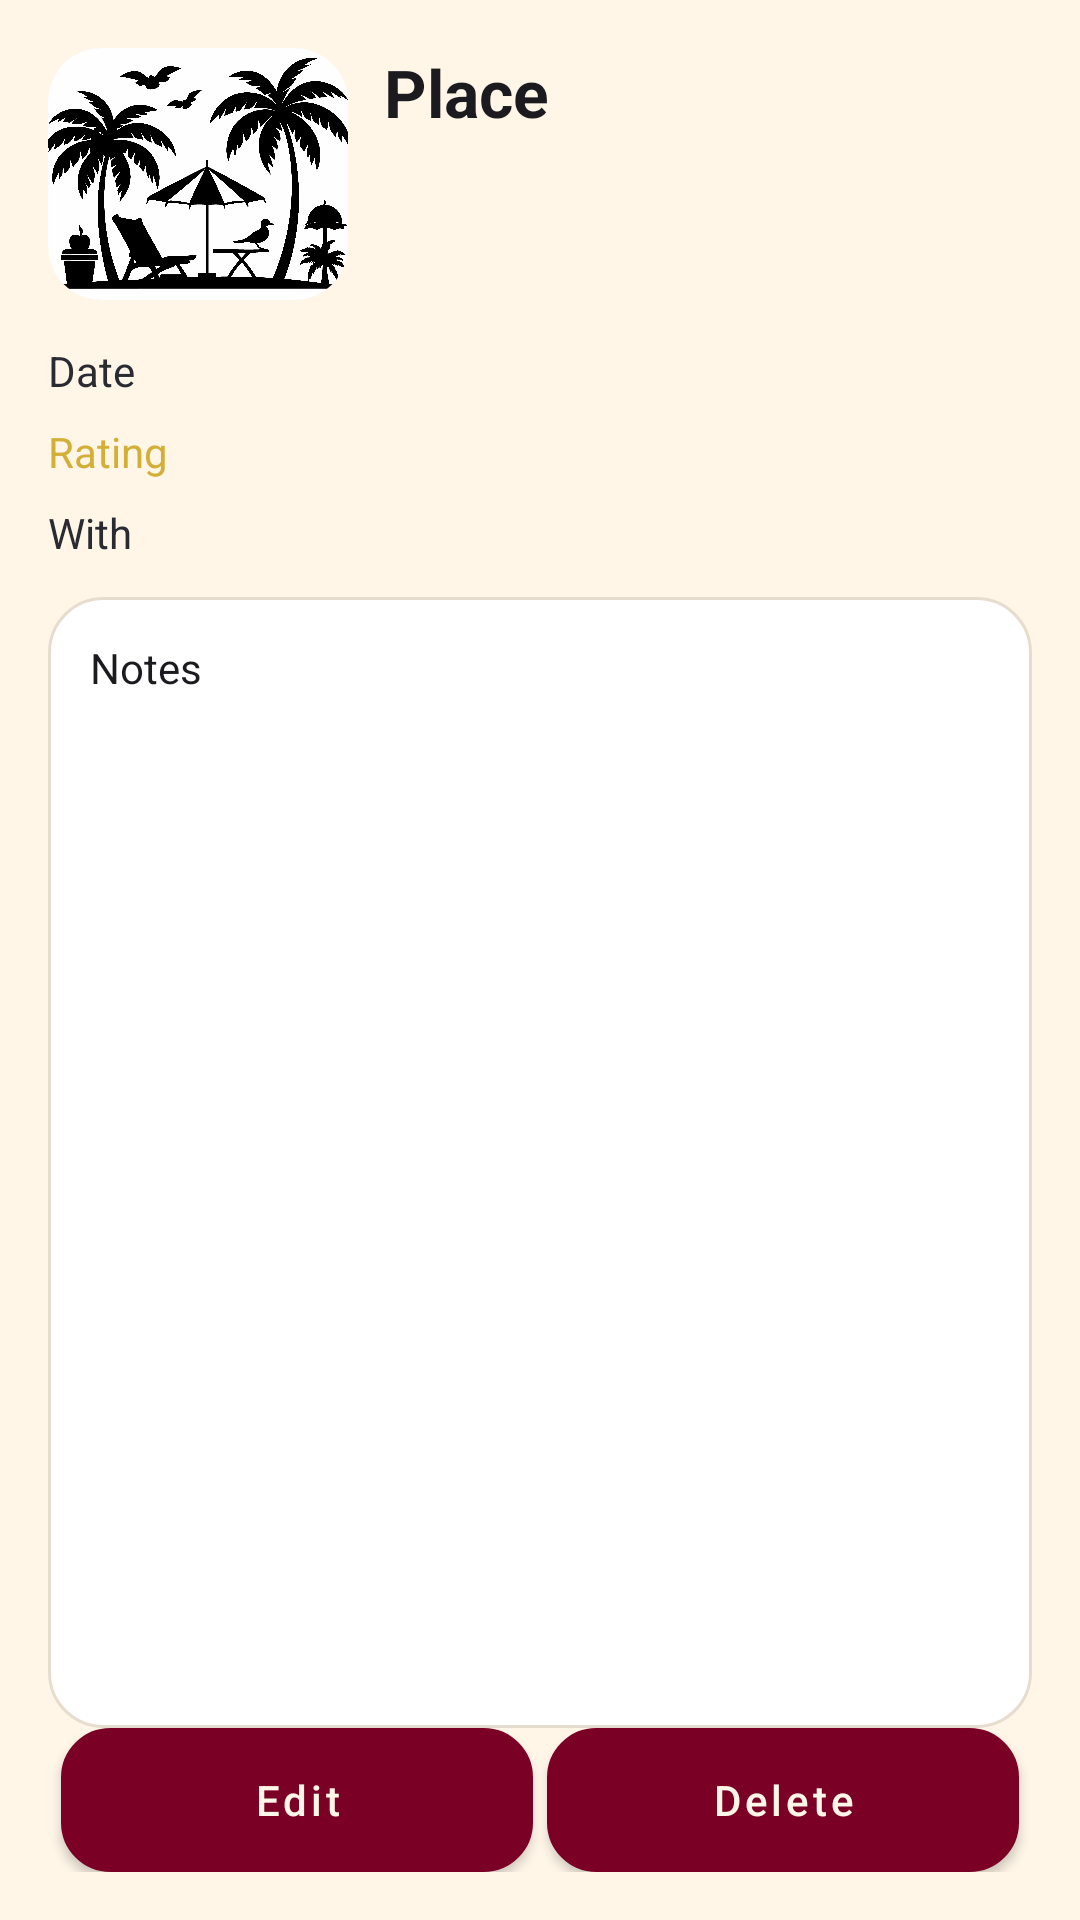

Where to tap for icons on this 1080*1920 app screen, as (x=x, y=y):
travelimage: (x=198, y=174)
